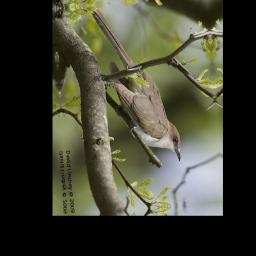Cuckoo: (91, 0, 183, 167)
